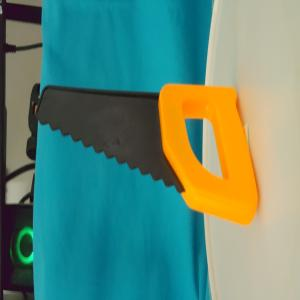serrote: (38, 82, 258, 227)
